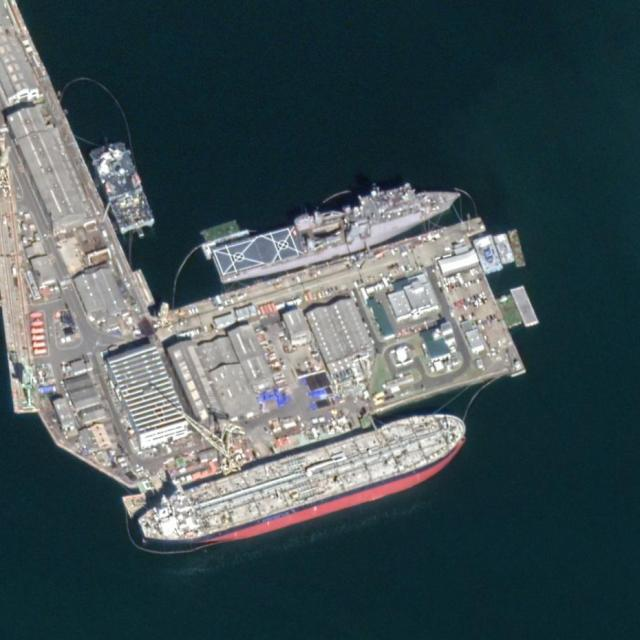Landing: (209, 176, 465, 281)
Oil Tanker: (122, 403, 480, 568)
